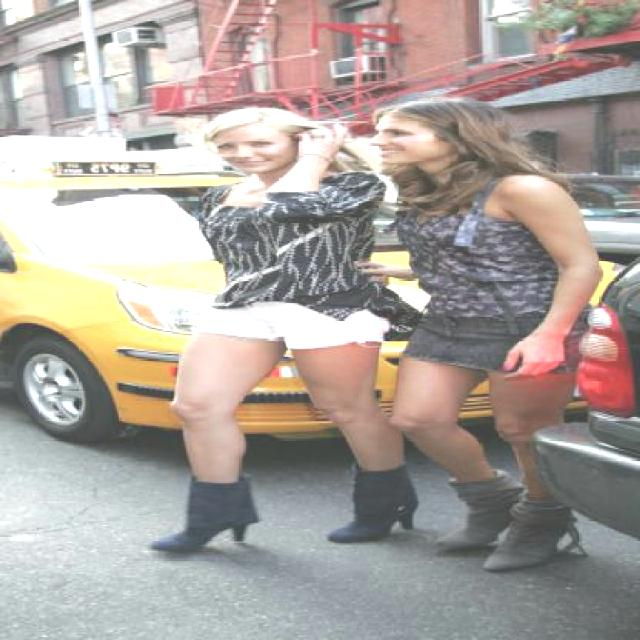Person: (124, 92, 430, 576), (372, 87, 603, 576)
